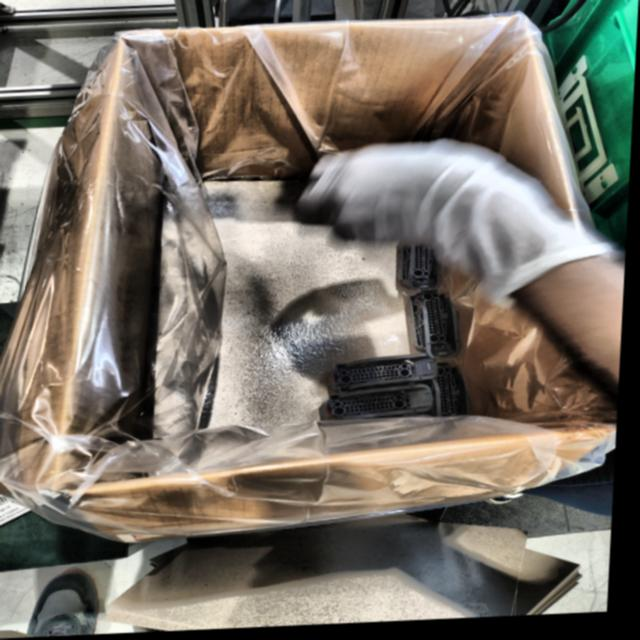P38: (324, 387, 442, 424), (331, 358, 442, 397), (409, 296, 466, 362), (399, 247, 445, 296), (440, 366, 474, 421)
